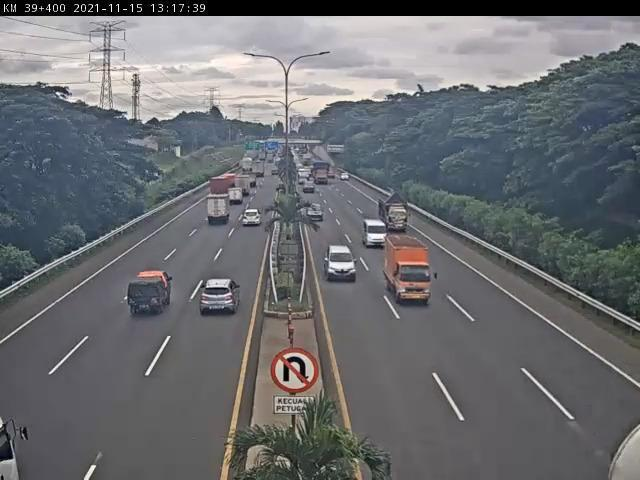car: (127, 268, 175, 316), (200, 278, 243, 314), (324, 243, 358, 283), (362, 219, 388, 248), (240, 207, 264, 228), (308, 202, 327, 225)
truck: (384, 236, 434, 307), (379, 194, 412, 233), (206, 194, 233, 225)
